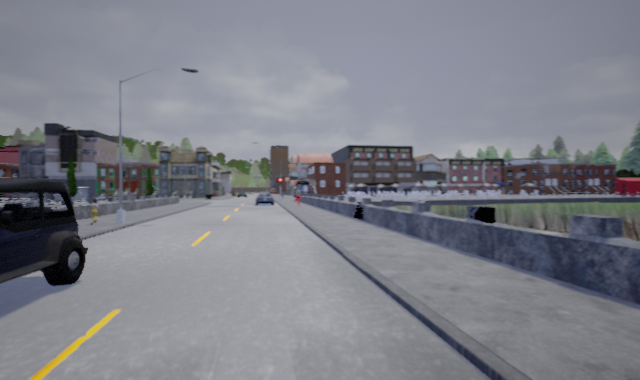pedestrian: (87, 196, 102, 228), (293, 186, 303, 206)
vehicle: (1, 177, 88, 290), (256, 192, 274, 206)
